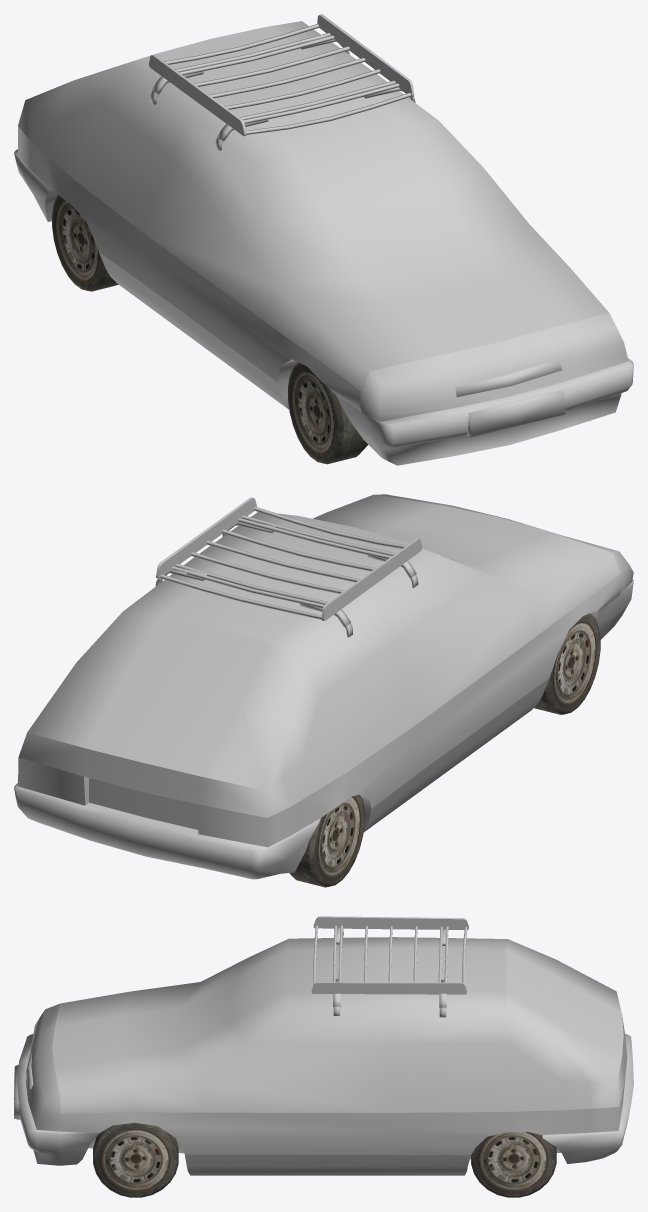
Rendered from LADA.fbx.
The picture shows the model from 3 angles, top to bottom: view 1: azimuth 30°, elevation 25°; view 2: azimuth 150°, elevation 25°; view 3: azimuth 270°, elevation 25°; orthographic projection. The views are drawn at different scales.
Visible parts, largest first — view 1: Lada, Cylinder.002, Cylinder.003; view 2: Lada, Cylinder.003, Cylinder.002; view 3: Lada, Cylinder, Cylinder.001.
Boxes of the visible parts, x1,y1,x2,y2 form: Lada: (14, 14, 633, 465); Cylinder.002: (288, 362, 368, 464); Cylinder.003: (52, 195, 118, 291); Lada: (14, 494, 633, 879); Cylinder.003: (289, 794, 364, 887); Cylinder.002: (534, 613, 600, 714); Lada: (14, 916, 633, 1175); Cylinder: (93, 1122, 178, 1197); Cylinder.001: (471, 1132, 556, 1197).
Bounding box in the file's own units: 165 × 140 × 399.
